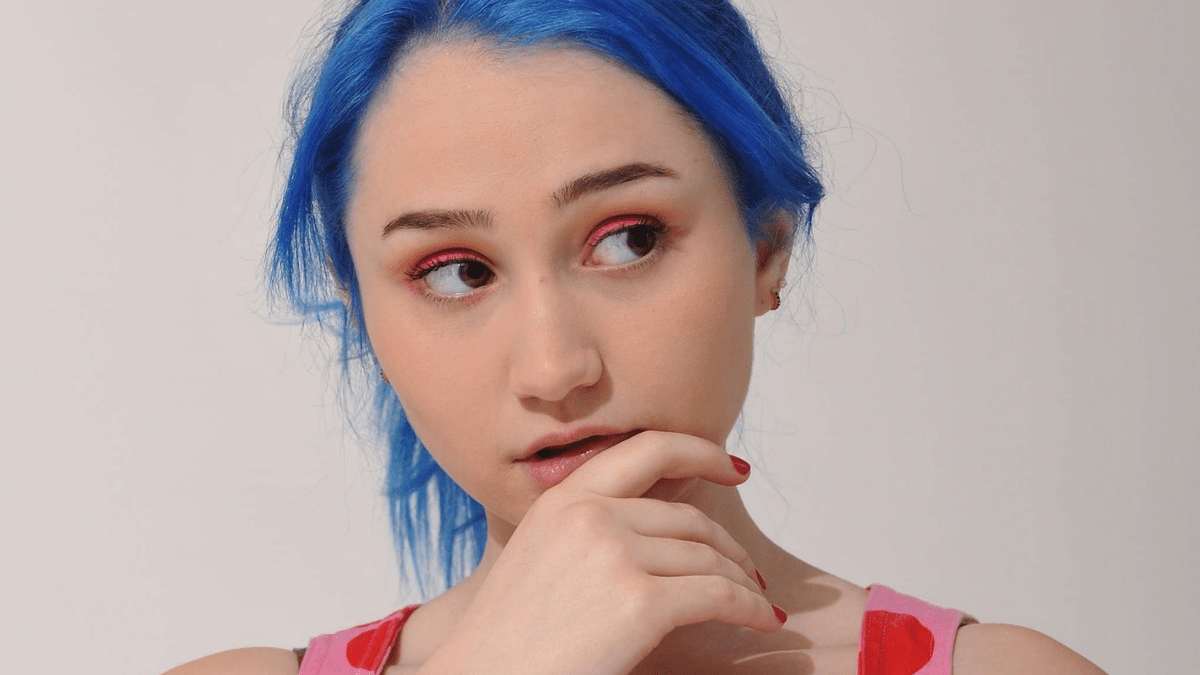person: (220, 2, 1065, 675)
